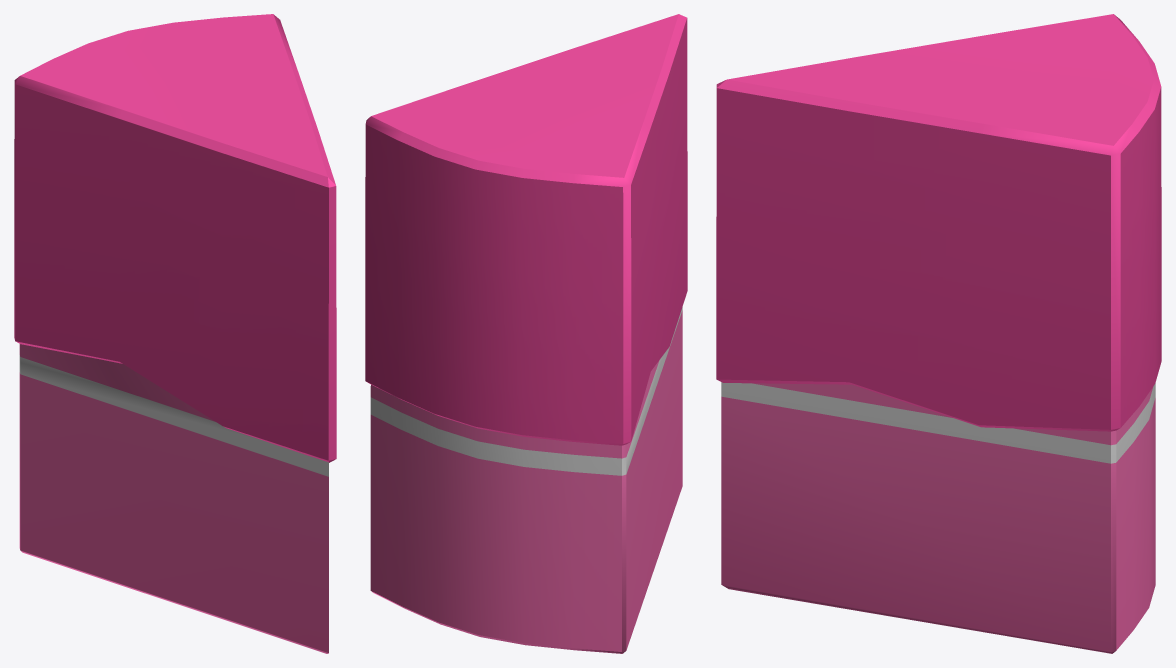
The model's file is Cake_2 Half_2.fbx.
3 views of the same model, side by side, from view 1: azimuth 30°, elevation 25°; view 2: azimuth 150°, elevation 25°; view 3: azimuth 270°, elevation 25° (orthographic). The views are drawn at different scales.
Parts seen in each view (by area): view 1: Cake_2 Half_2; view 2: Cake_2 Half_2; view 3: Cake_2 Half_2.
Part boxes in pixels (left/top/right/bottom): Cake_2 Half_2: left=14, top=14, right=336, bottom=653; Cake_2 Half_2: left=365, top=14, right=687, bottom=653; Cake_2 Half_2: left=716, top=14, right=1161, bottom=653.
Size of the model in its own units: 0.0985 by 0.1695 by 0.1343.
